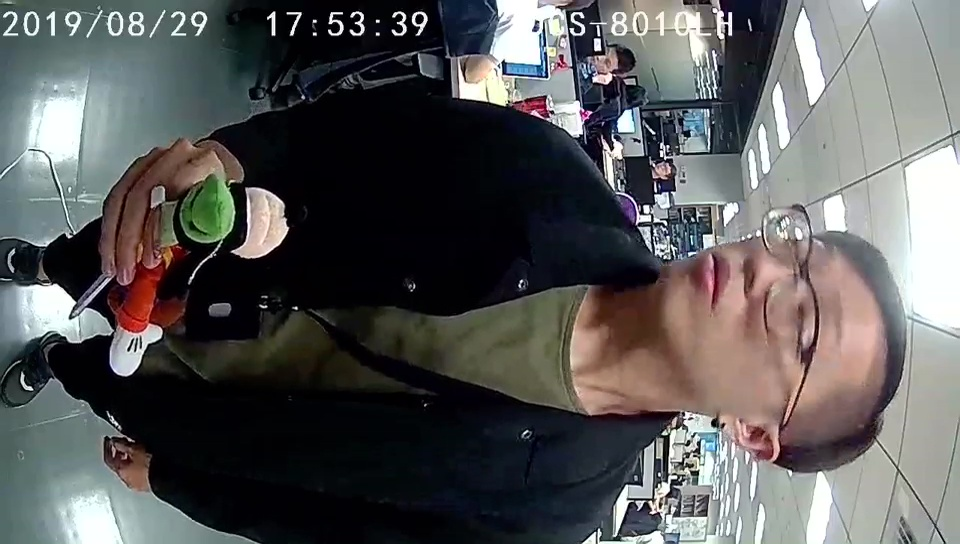goofy: (104, 170, 290, 379)
